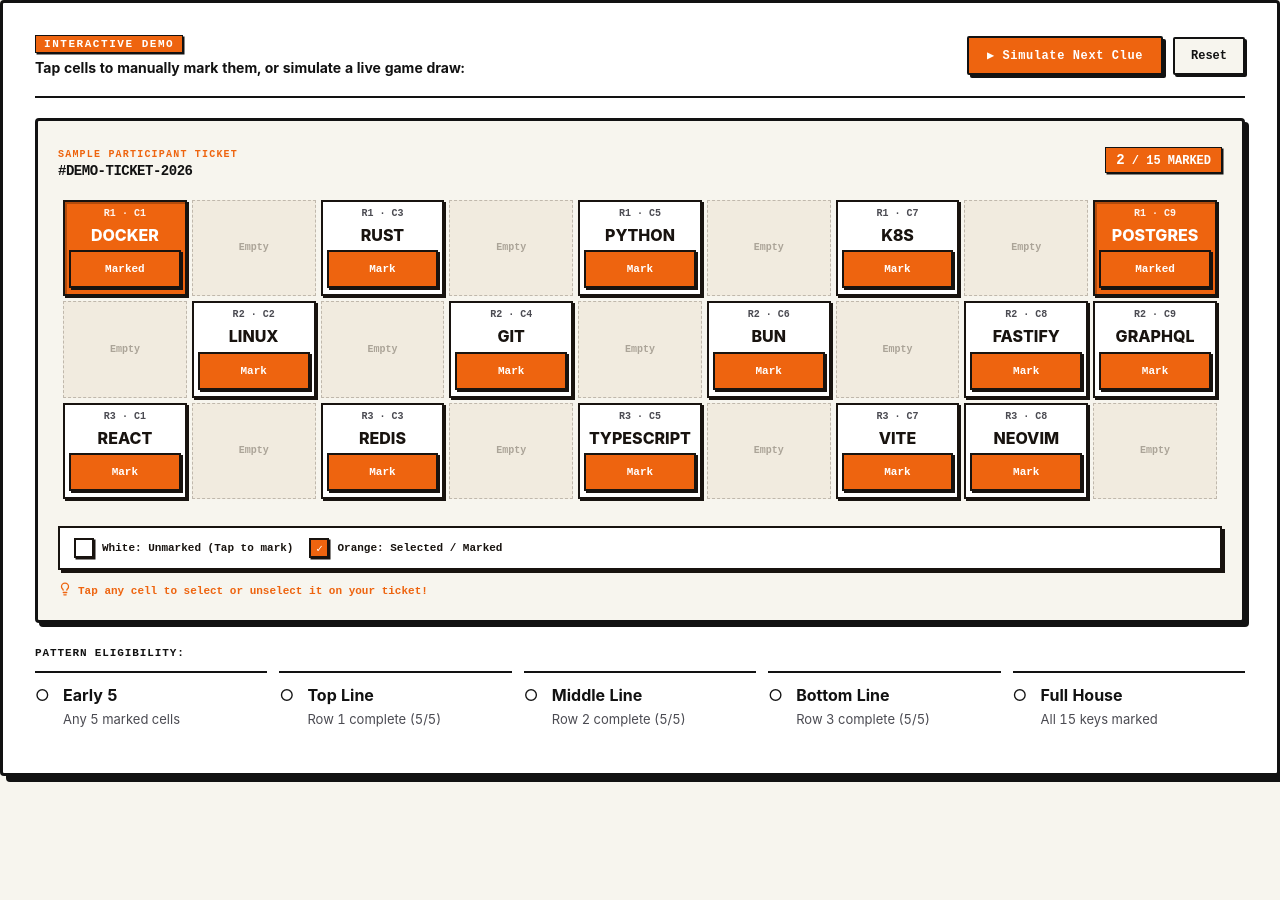
Test case: SampleTicketDemo › resets all marks when the reset button is clicked
Step 1. Click the button "Reset" → (1209, 56), box [1173, 36, 1245, 74]
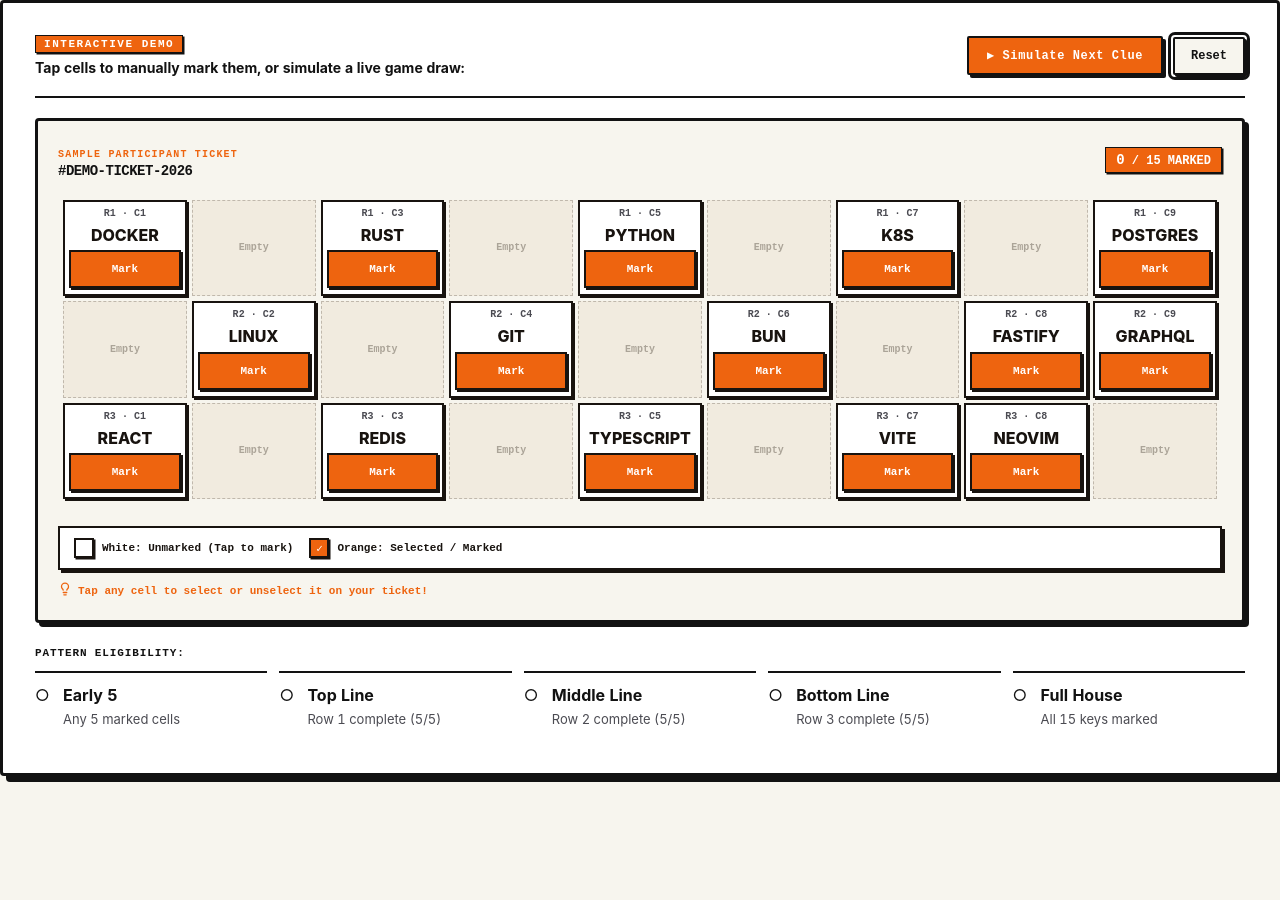
Expected: the text "0" is shown, [1116, 152, 1125, 168]
